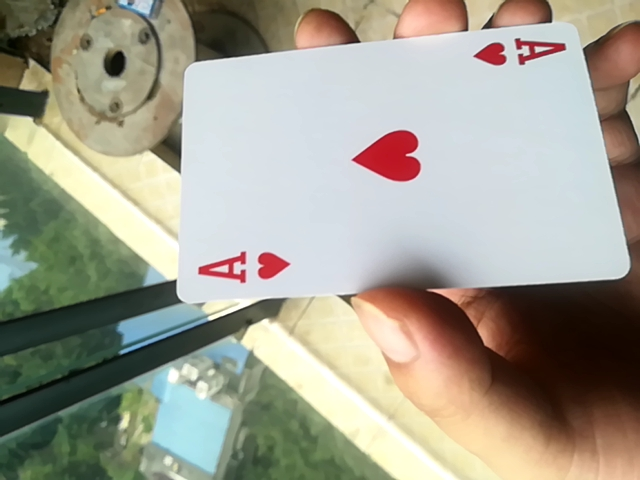hx a: (172, 19, 625, 310)
